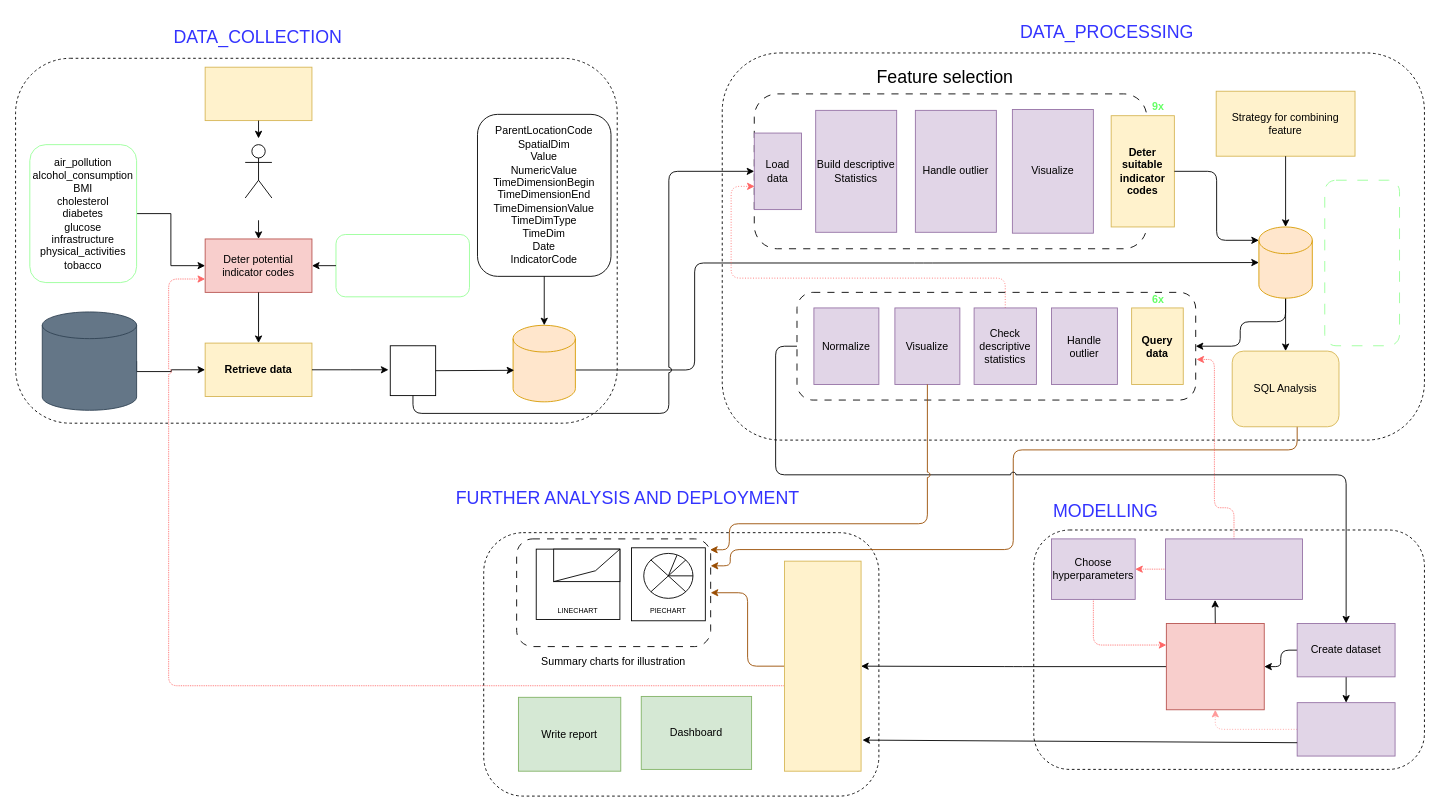
Image size: 1440x812. Some labels were removed from this diagram. Here are the shapes that lost their labels. From the top down, the centre of each, then its label:
the point at 258,93: Formulate problem
the point at 402,265: cardiovascular_diseases
the point at 1285,262: Final Database
the point at 1362,262: x1 x2 x3 x4 x5 x6 x7 x8 x9 y TimeDim SpatialDim
the point at 89,360: GHO_API
the point at 412,370: JSON
the point at 543,363: Dummy Database
the point at 1234,568: Evaluate
the point at 822,665: Feature evaluate
the point at 1214,666: XGBoost (Regression)
the point at 1345,729: Deter best model
